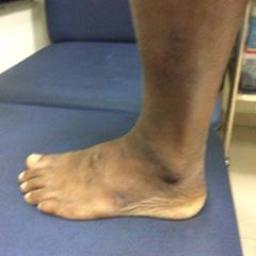Lateral View -Left Foot-: (12, 109, 215, 227)
